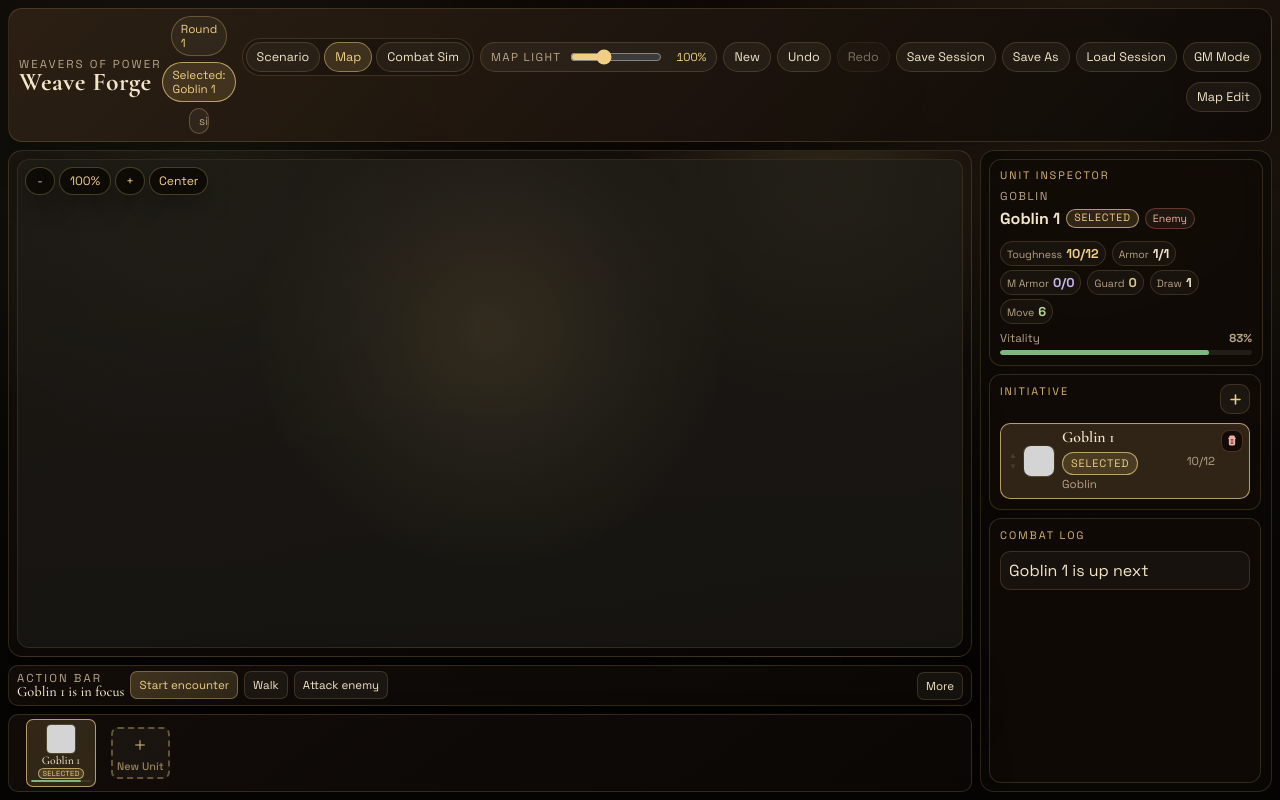
App › posts Undo from the top menu and updates the snapshot
Step 1. Click the button "Undo" → (804,57), box 777,42 -> 831,72
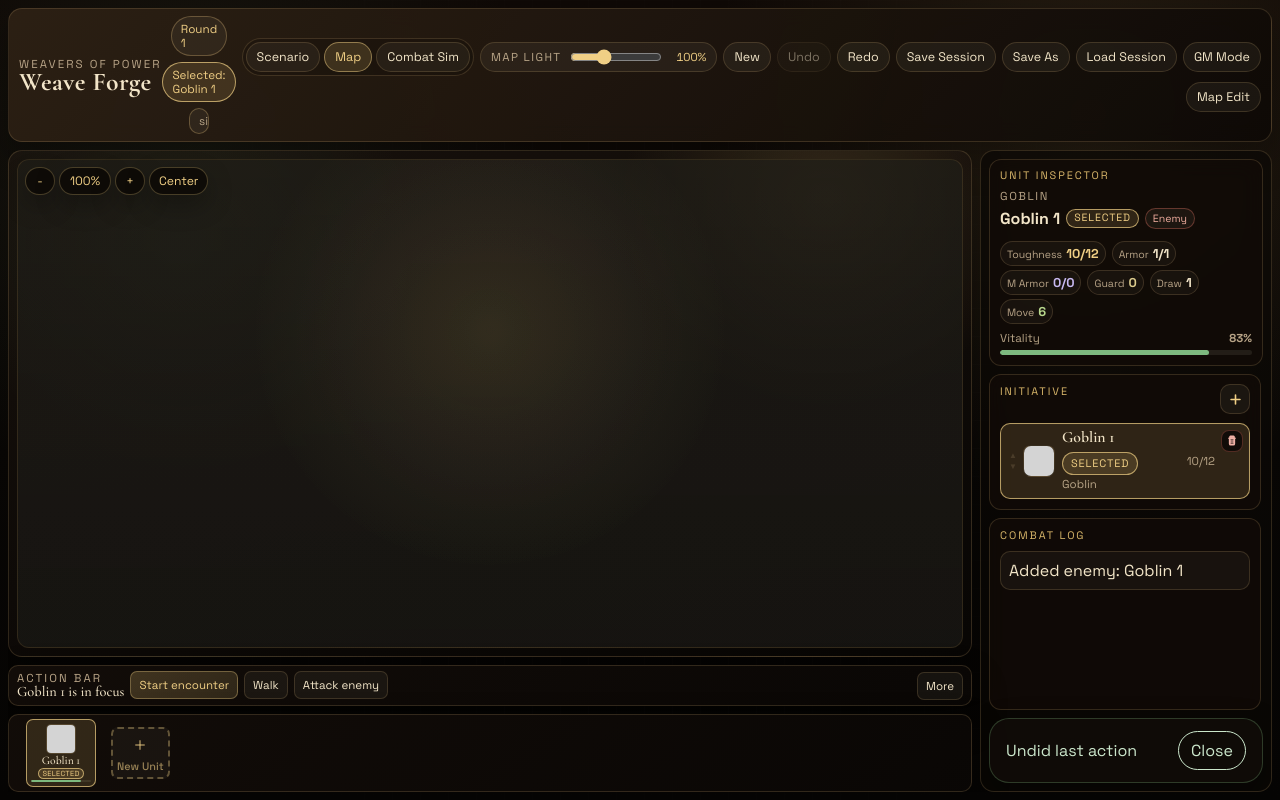
Result: the text "Undid last action" is shown at 1006,740 -> 1137,761
Result: the button "Undo" is disabled at 777,42 -> 831,72
Result: the button "Redo" is enabled at 837,42 -> 890,72
